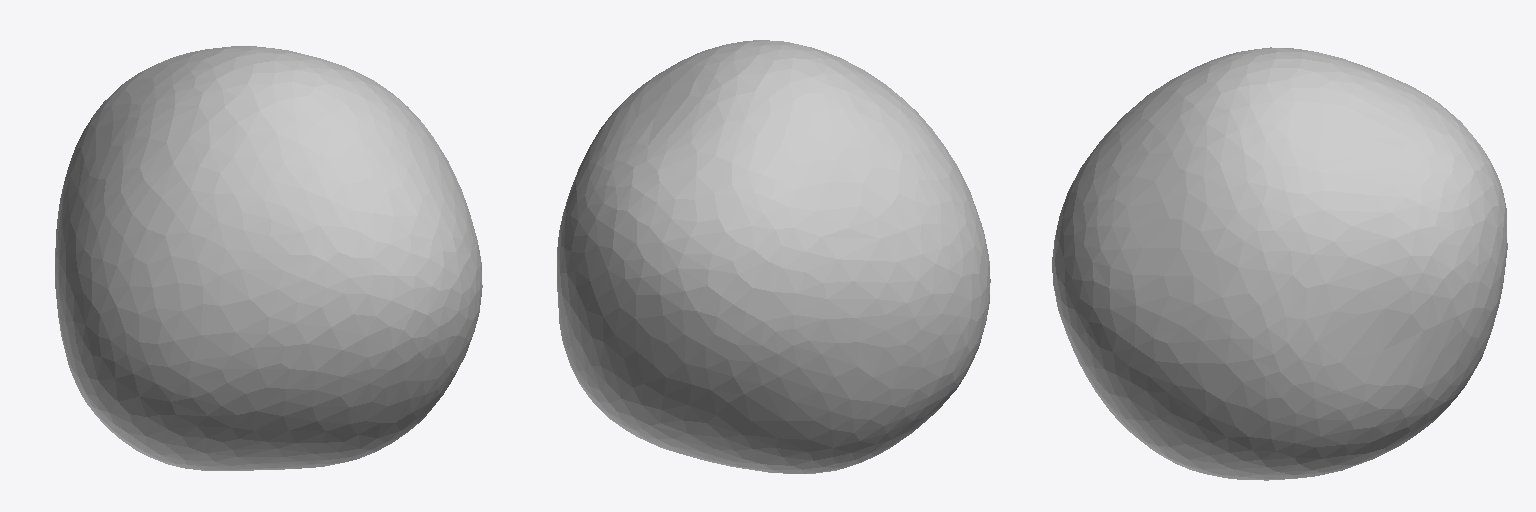
File: moon_2.obj
3 views of the same model, side by side, from view 1: azimuth 30°, elevation 25°; view 2: azimuth 150°, elevation 25°; view 3: azimuth 270°, elevation 25° (orthographic).
Bounding box in the file's own units: 4.2 × 4.17 × 4.41.